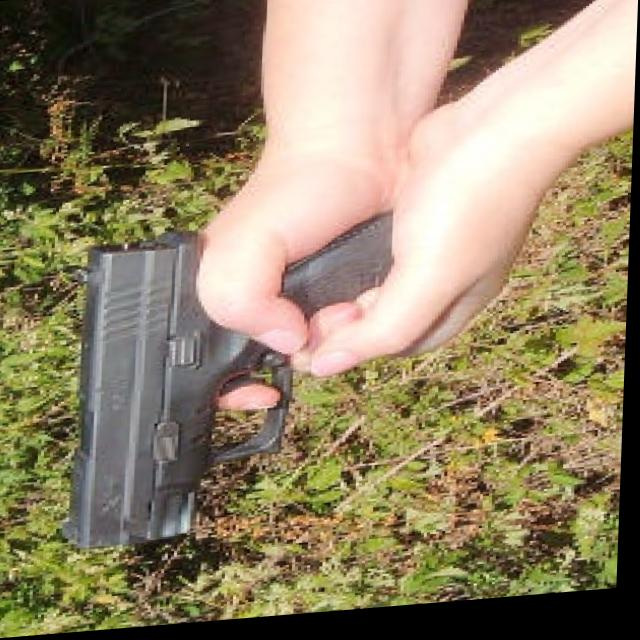handgun: (59, 214, 396, 549)
